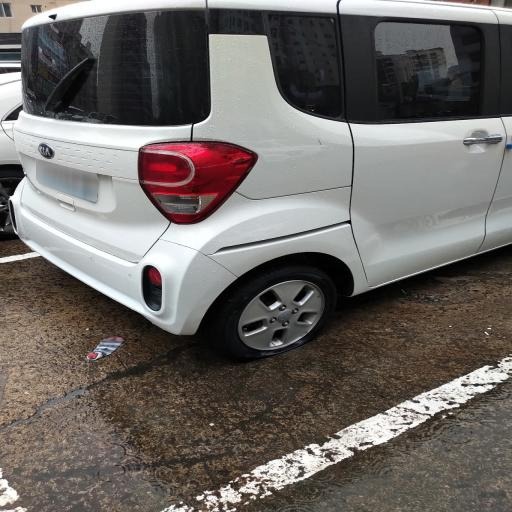broken: (188, 216, 396, 276)
